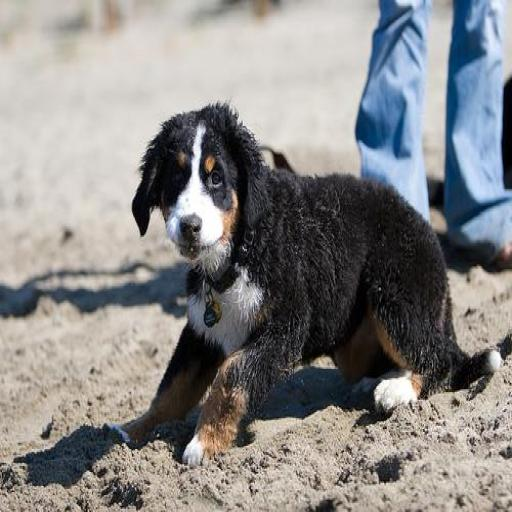dog_face: (135, 102, 243, 252)
